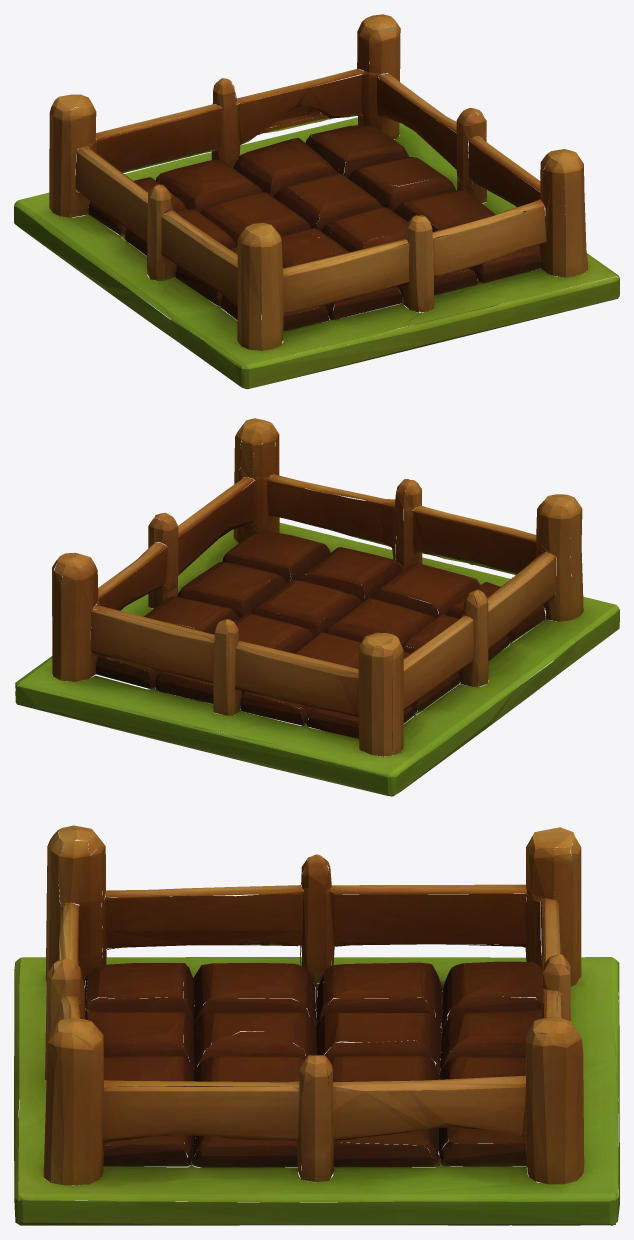
Rendered from empty_farm_land.glb.
The picture shows the model from 3 angles, top to bottom: view 1: azimuth 30°, elevation 25°; view 2: azimuth 150°, elevation 25°; view 3: azimuth 270°, elevation 25°; orthographic projection. The views are drawn at different scales.
Visible parts, largest first — view 1: geometry_0; view 2: geometry_0; view 3: geometry_0.
Boxes of the visible parts, x1,y1,x2,y2 form: geometry_0: [14, 14, 619, 388]; geometry_0: [15, 418, 619, 796]; geometry_0: [14, 825, 619, 1225].
Size of the model in its own units: 0.9502 by 0.3346 by 0.999.
Materials: 1 (1 with a texture image).
